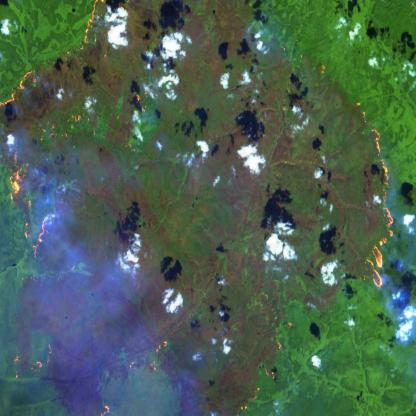fire: (330, 78, 407, 317), (0, 58, 47, 271), (5, 334, 57, 386), (124, 332, 174, 381), (265, 314, 289, 386), (231, 376, 262, 416), (84, 0, 108, 46), (97, 399, 122, 416)
